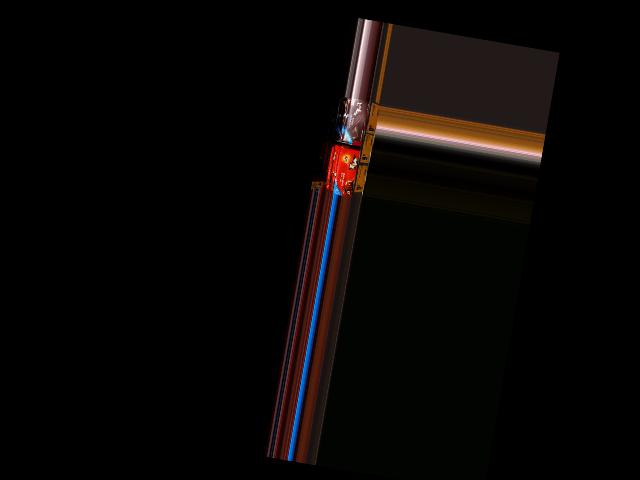chocolate: (340, 96, 374, 143)
